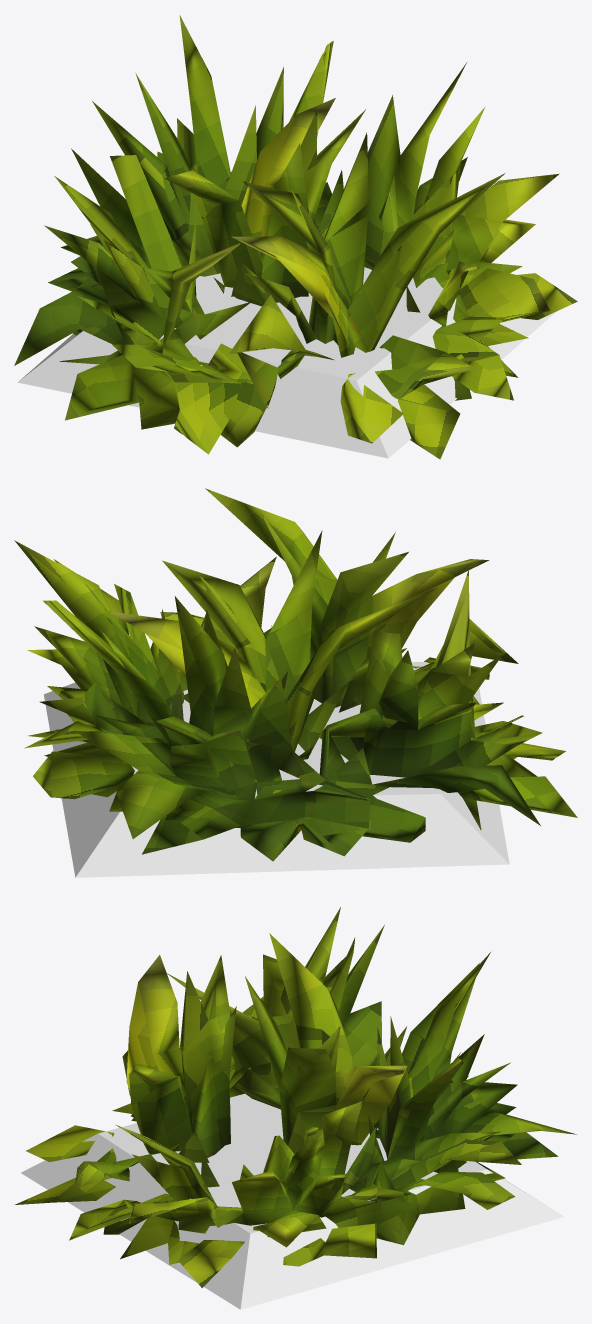
Rendered from bush_02.fbx.
3 renders of one model, top to bottom at view 1: azimuth 30°, elevation 25°; view 2: azimuth 150°, elevation 25°; view 3: azimuth 270°, elevation 25°, orthographic. The views are drawn at different scales.
Visible parts, largest first — view 1: bush_02, col_mesh; view 2: bush_02, col_mesh; view 3: bush_02, col_mesh.
Boxes of the visible parts, x1,y1,x2,y2 form: bush_02: (14, 15, 577, 459); col_mesh: (17, 267, 556, 458); bush_02: (14, 488, 577, 861); col_mesh: (43, 662, 509, 877); bush_02: (15, 907, 576, 1287); col_mesh: (21, 1093, 564, 1309).
Size of the model in its own units: 3.89 by 1.91 by 3.91.
